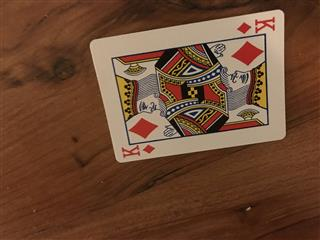KingOfDiamonds: (88, 8, 286, 164)
